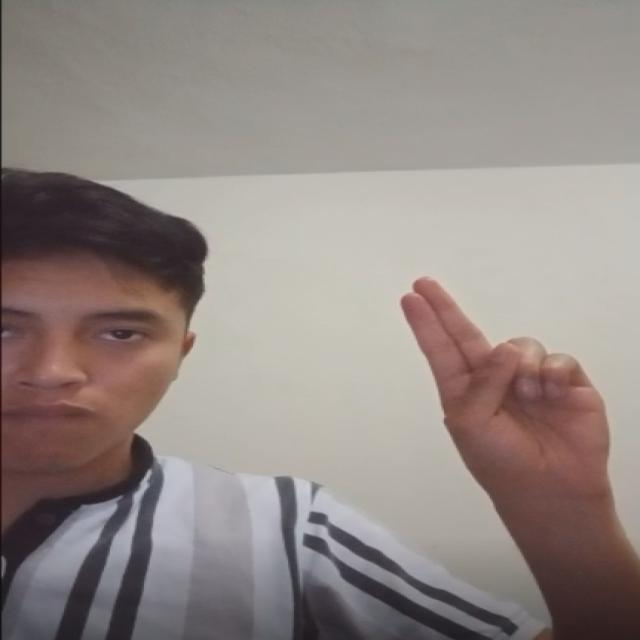U: (363, 269, 620, 502)
